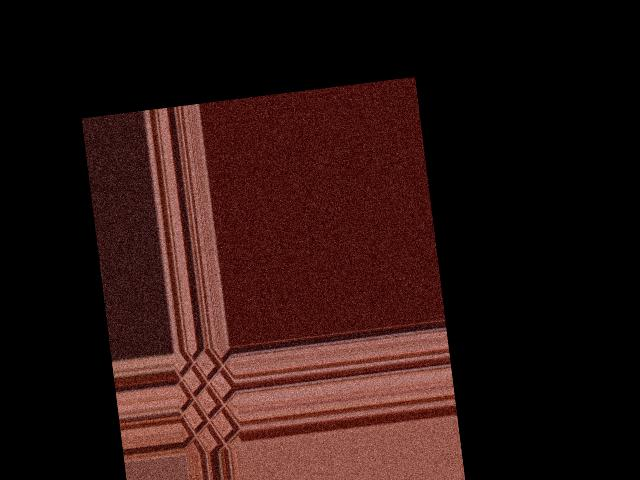chocolate: (174, 348, 243, 455)
